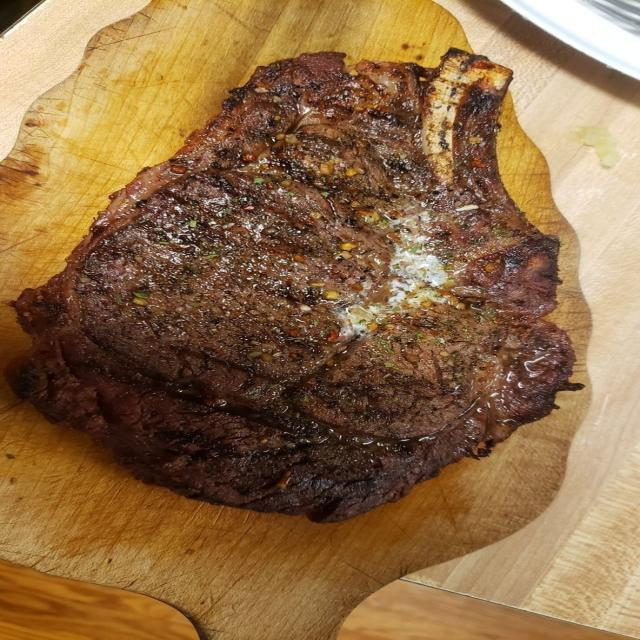beef steak: (7, 48, 581, 522)
